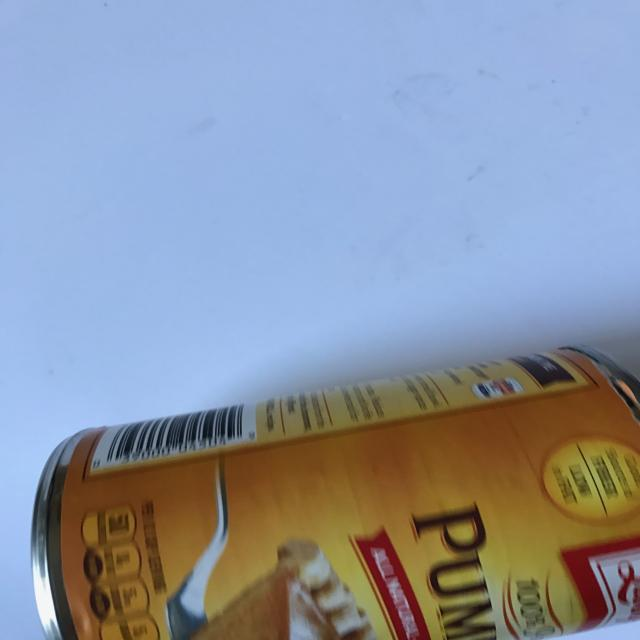metal: (32, 345, 640, 640)
